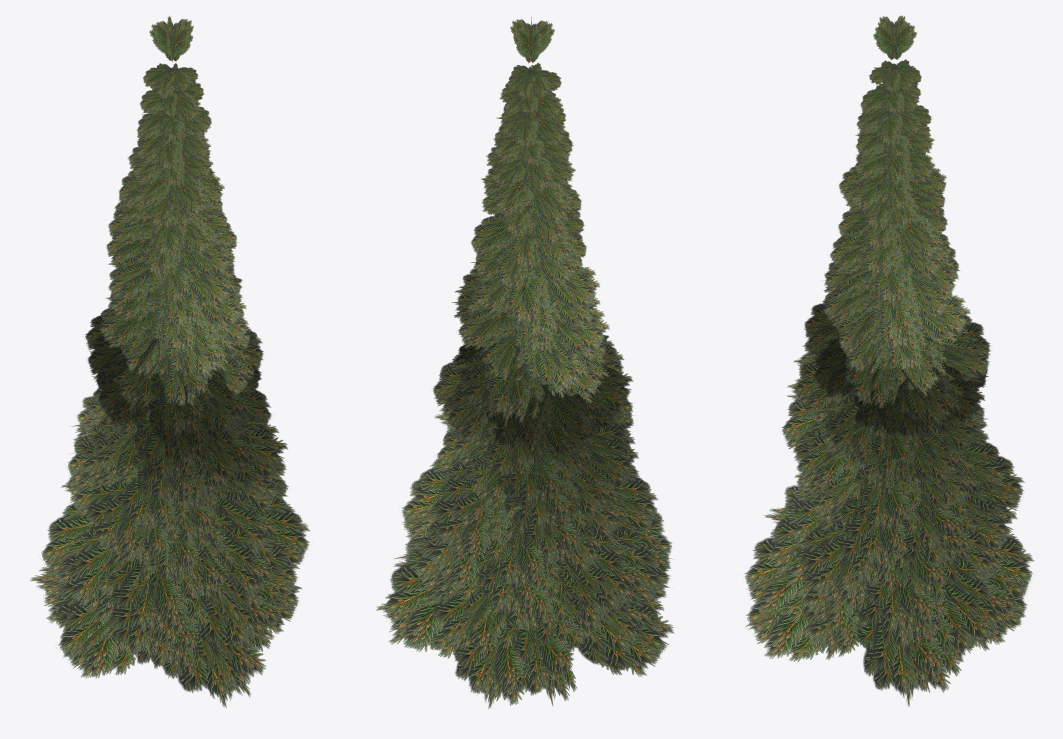
Rendered from spruce2_needles.glb.
3 views of the same model, side by side, from view 1: azimuth 30°, elevation 25°; view 2: azimuth 150°, elevation 25°; view 3: azimuth 270°, elevation 25° (orthographic). The views are drawn at different scales.
Visible parts, largest first — view 1: needles; view 2: needles; view 3: needles.
Boxes of the visible parts, x1,y1,x2,y2 form: needles: [30, 16, 310, 707]; needles: [376, 16, 674, 708]; needles: [744, 15, 1034, 706].
Bounding box in the file's own units: 4.16 × 9.17 × 4.09.
Materials: 1 (1 with a texture image).
